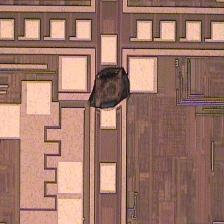BLOCK ETCH: (81, 61, 137, 117)
